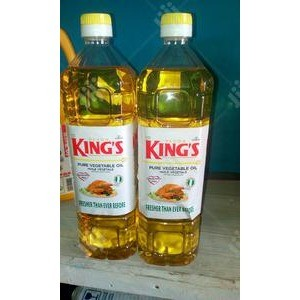vegetable oil_brain food: (133, 99, 215, 264), (70, 57, 126, 261)
